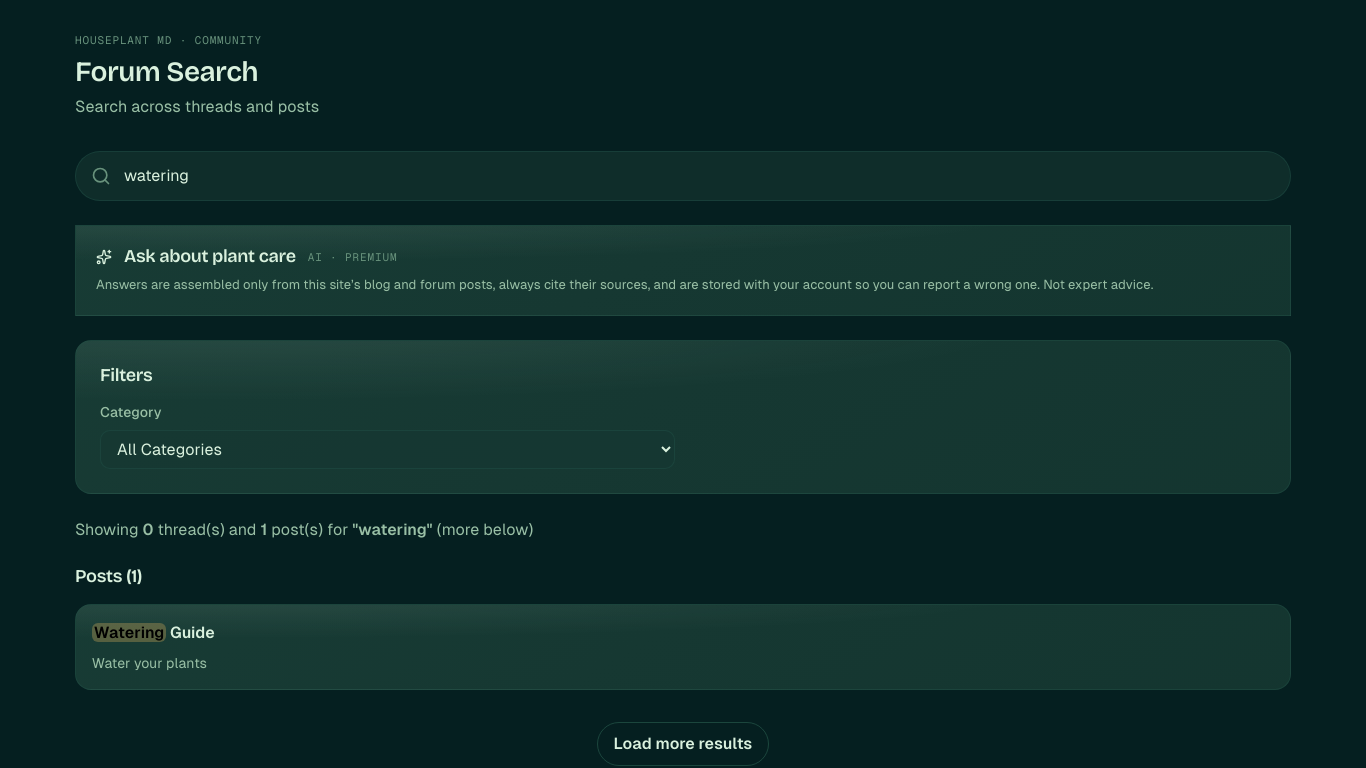
Test: SearchPage › Search Results › shows Load More when only has_more_posts is true (posts section drives it)
This screenshot has width=1366, height=768.
Click the button "Load more results" at (683, 744), box [597,722,769,766]
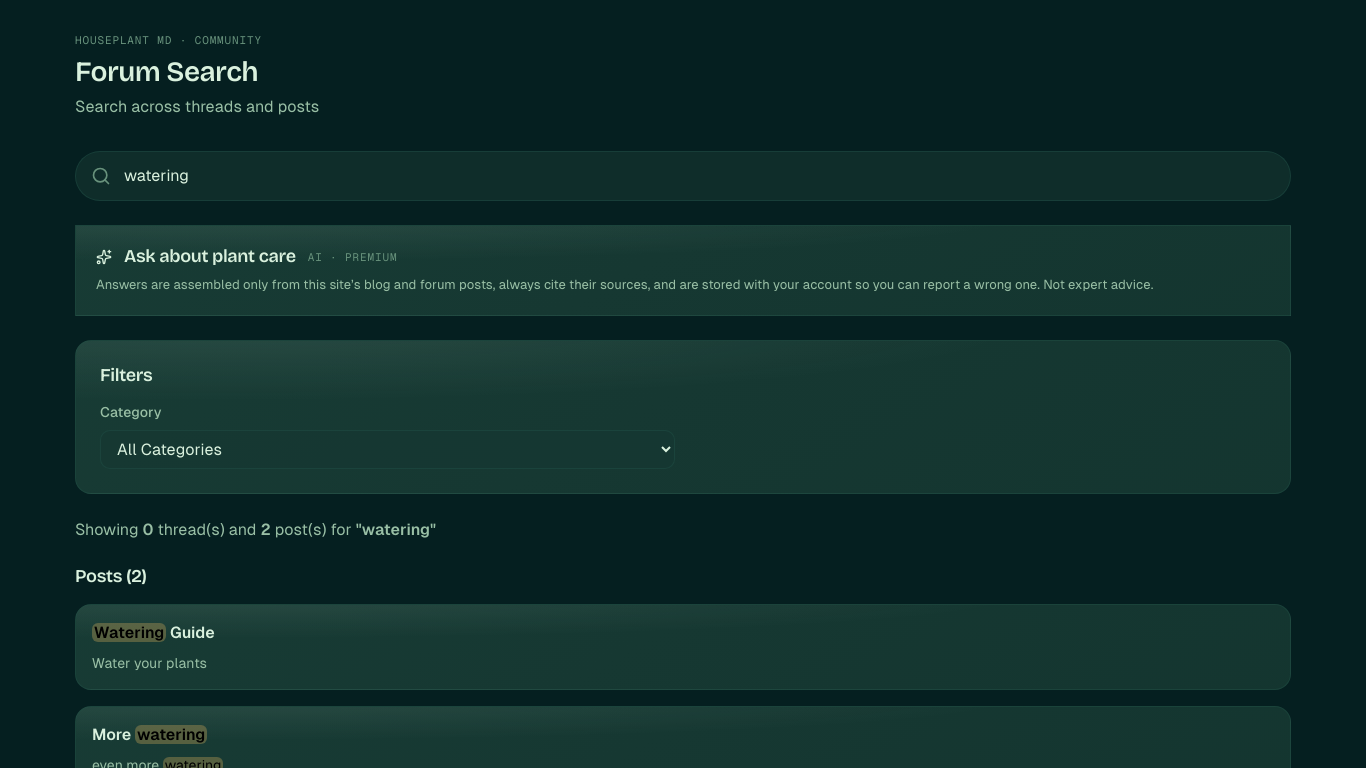
Check: the button "Load more results" is gone
